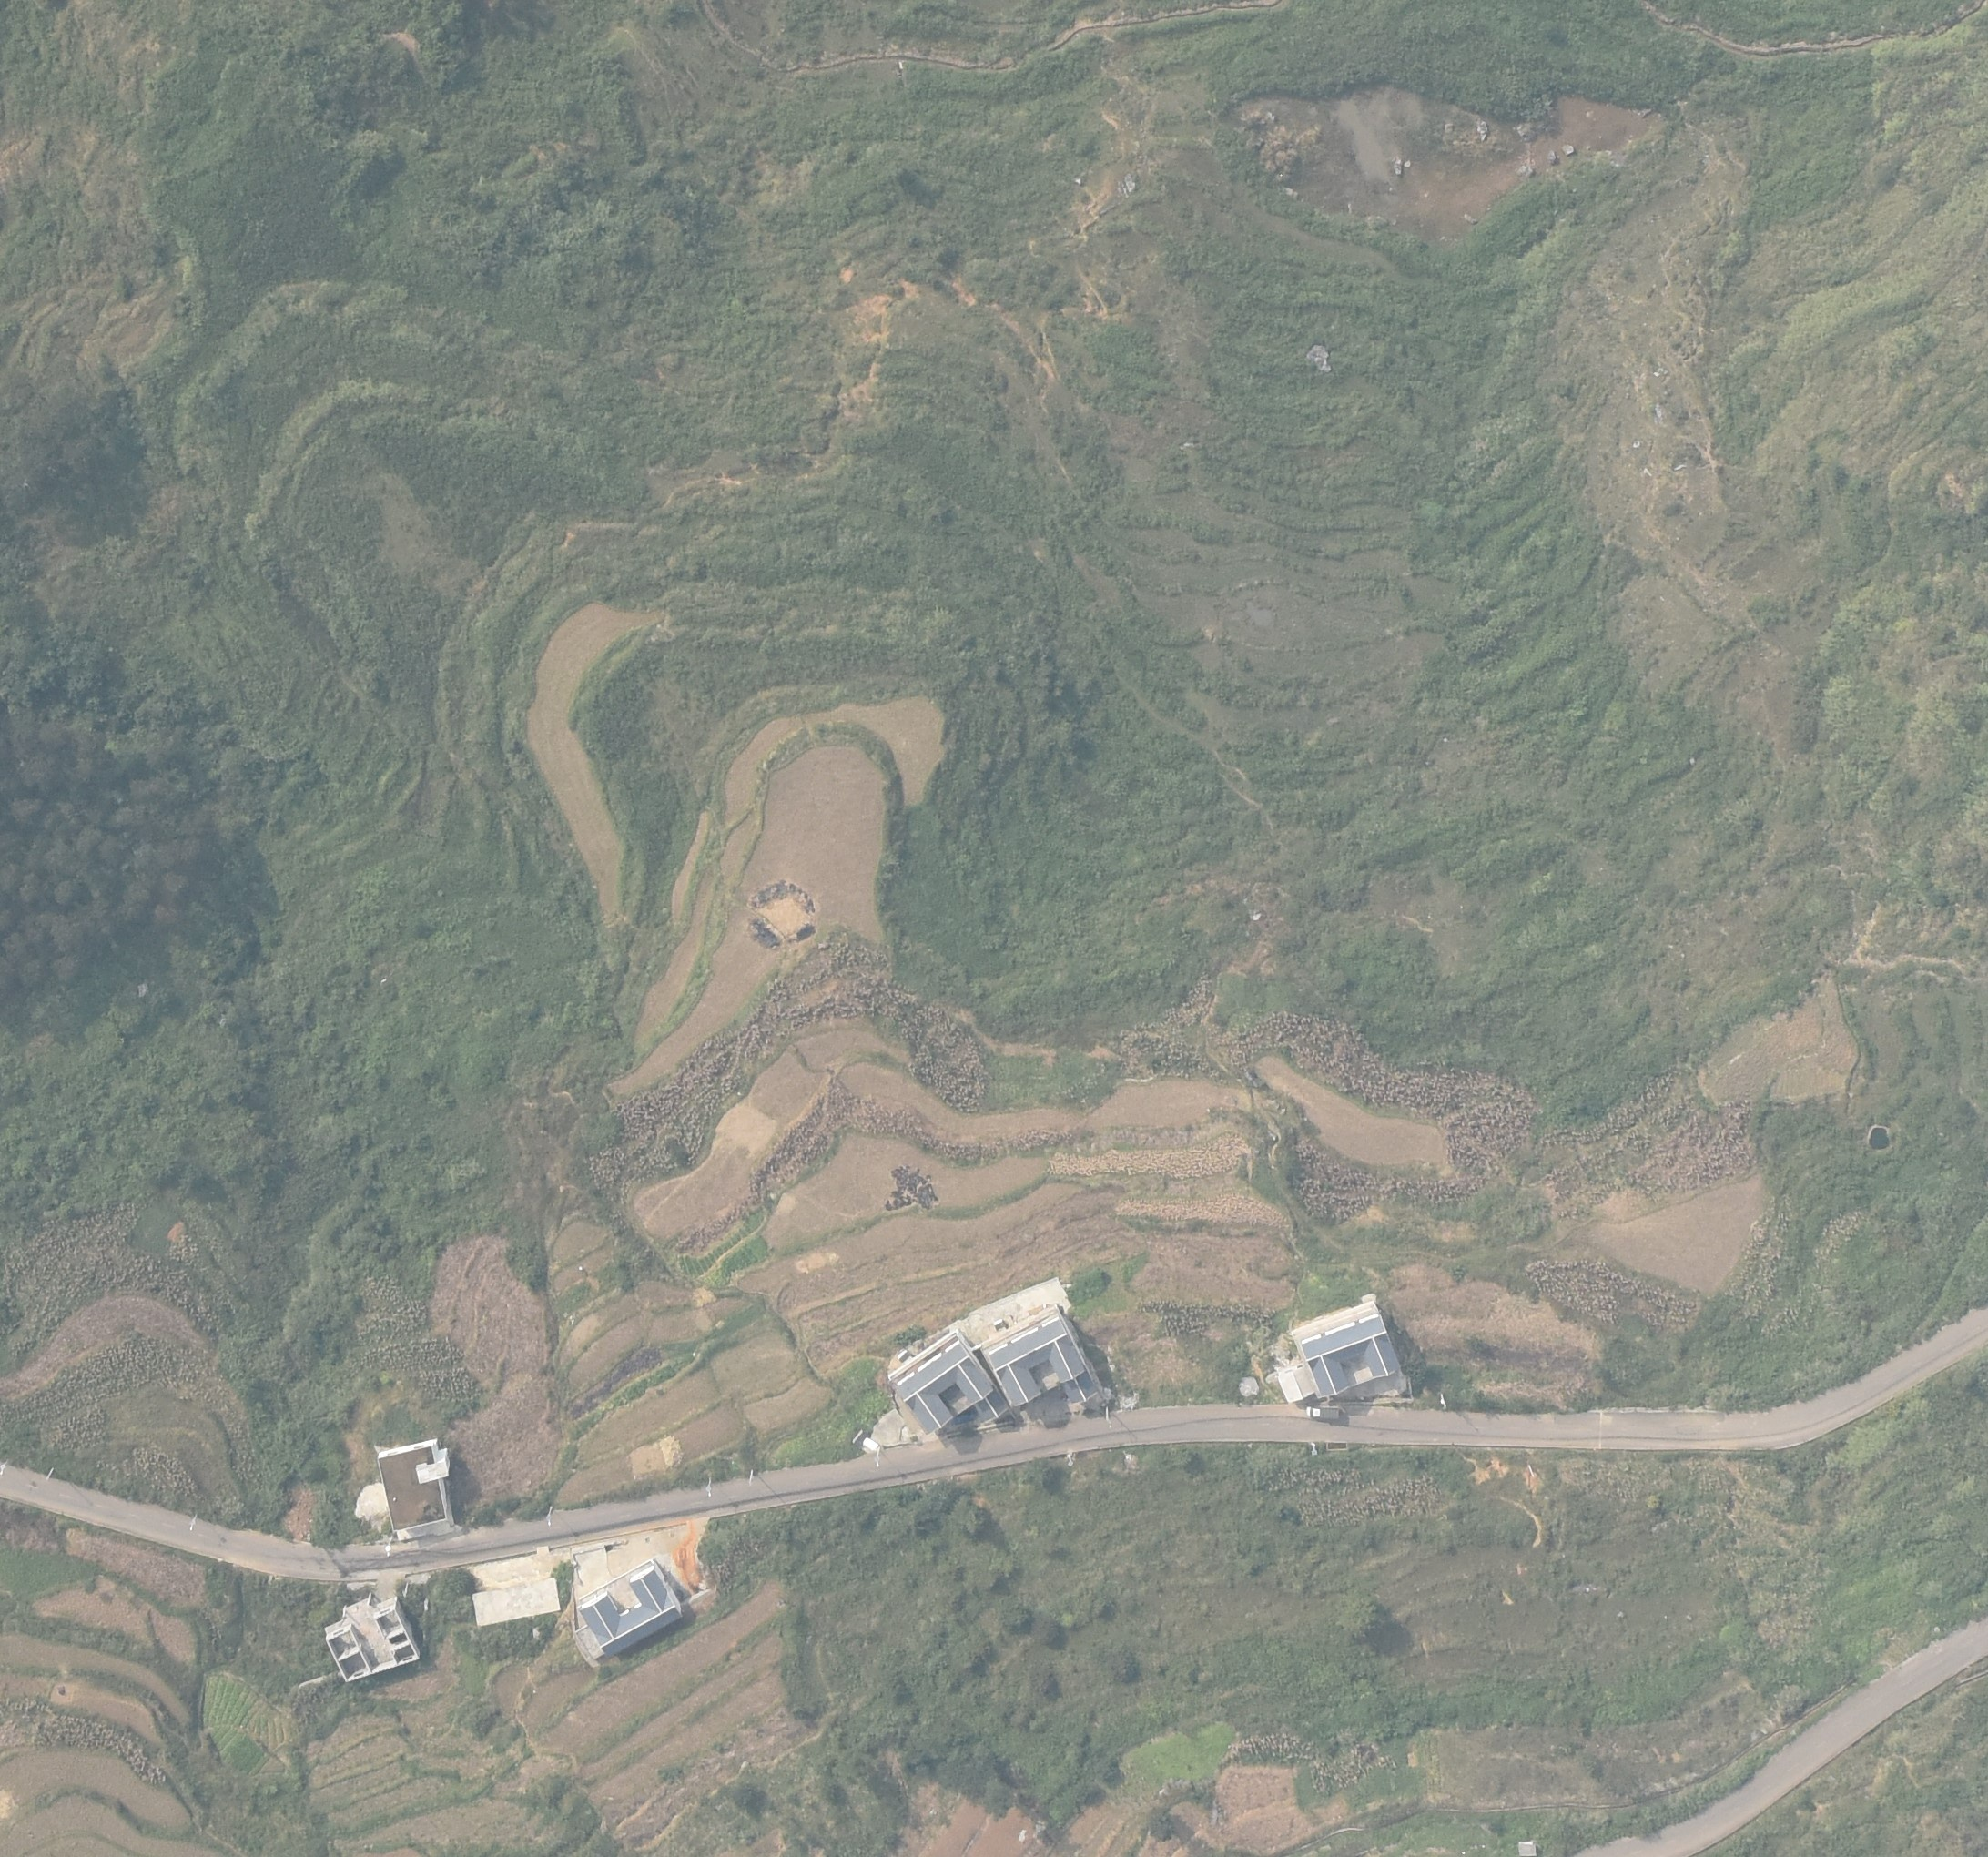building: (887, 1328, 1009, 1436), (983, 1304, 1110, 1407), (578, 1560, 682, 1660), (1293, 1302, 1400, 1396), (323, 1593, 421, 1684), (377, 1438, 454, 1541), (471, 1578, 562, 1627)
prefabricated-house: (1279, 1363, 1316, 1401)
vehicle: (1306, 1405, 1340, 1422)
